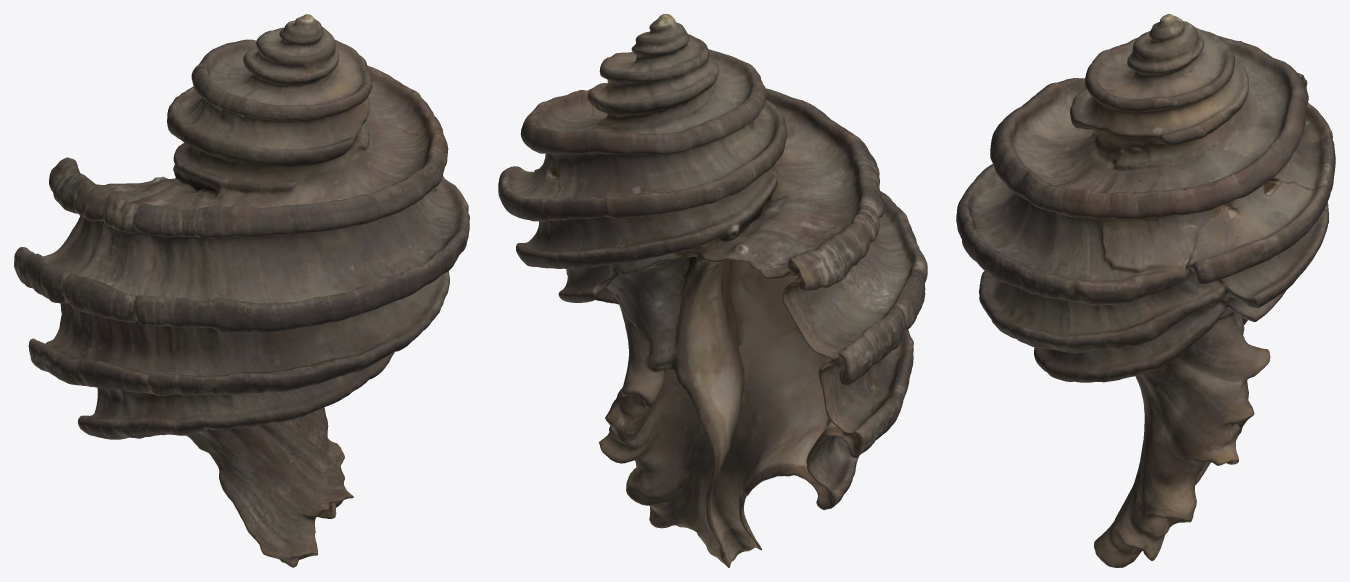
The picture shows the model from 3 angles, left to right: view 1: azimuth 30°, elevation 25°; view 2: azimuth 150°, elevation 25°; view 3: azimuth 270°, elevation 25°; orthographic projection. The views are drawn at different scales.
Parts seen in each view (by area): view 1: Ecphora_gardnerae_gardnerae_Wilson-unwrapped-webmulti; view 2: Ecphora_gardnerae_gardnerae_Wilson-unwrapped-webmulti; view 3: Ecphora_gardnerae_gardnerae_Wilson-unwrapped-webmulti.
Part boxes in pixels (box(x1,y1,x2,y2)): Ecphora_gardnerae_gardnerae_Wilson-unwrapped-webmulti: box(14, 14, 469, 567); Ecphora_gardnerae_gardnerae_Wilson-unwrapped-webmulti: box(498, 14, 927, 567); Ecphora_gardnerae_gardnerae_Wilson-unwrapped-webmulti: box(956, 14, 1335, 567).
Size of the model in its own units: 3687 by 4915 by 2963.
1 material, 1 textured.
